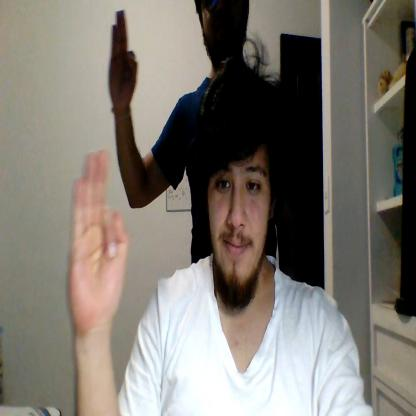F: (66, 148, 130, 326), (107, 9, 138, 107)
